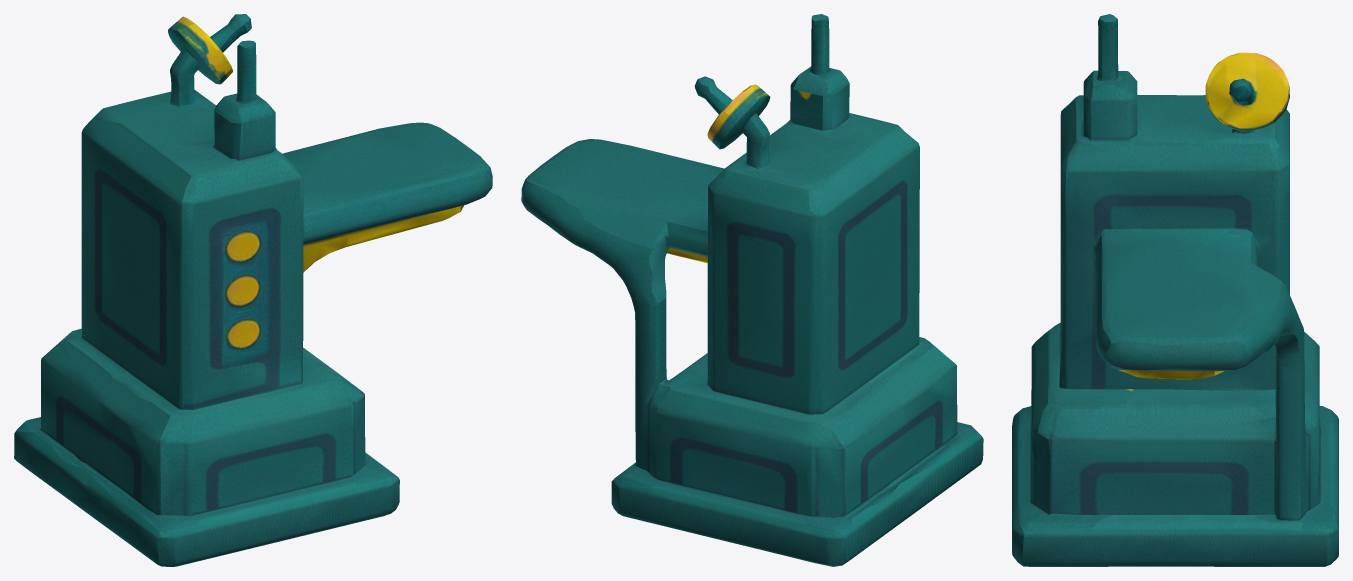
Rendered from Environment 4.2.fbx.
The picture shows the model from 3 angles, left to right: view 1: azimuth 30°, elevation 25°; view 2: azimuth 150°, elevation 25°; view 3: azimuth 270°, elevation 25°; orthographic projection. The views are drawn at different scales.
Visible parts, largest first — view 1: tmp4eqqt0nw.ply; view 2: tmp4eqqt0nw.ply; view 3: tmp4eqqt0nw.ply.
Boxes of the visible parts, x1,y1,x2,y2 form: tmp4eqqt0nw.ply: (14,14,492,566); tmp4eqqt0nw.ply: (521,14,983,566); tmp4eqqt0nw.ply: (1012,14,1338,566).
Size of the model in its own units: 172 by 199 by 119.
Materials: 1 (1 with a texture image).
